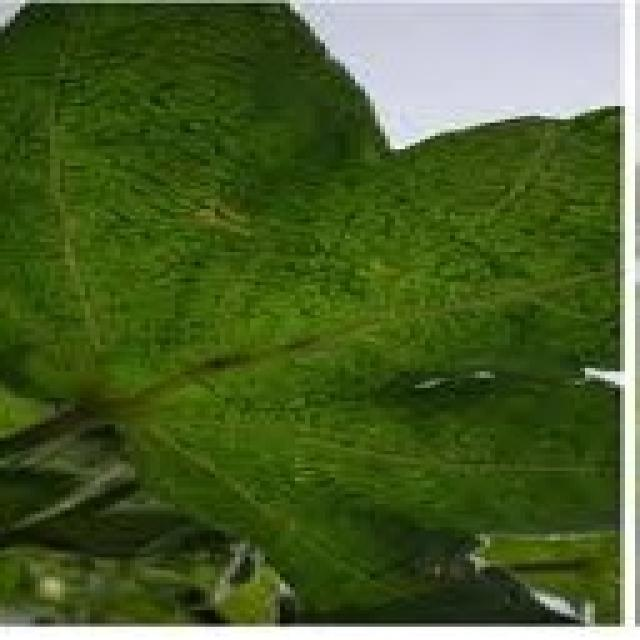Leaf Curl Virus: (46, 63, 574, 529)
